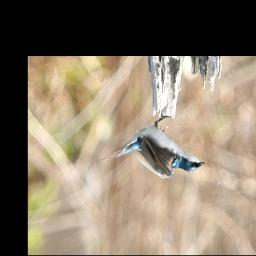Swallow: (101, 114, 206, 180)
